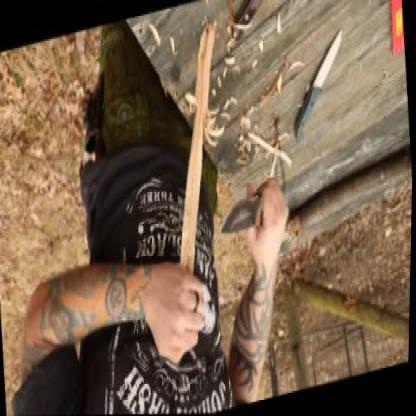knife: (210, 165, 294, 258)
